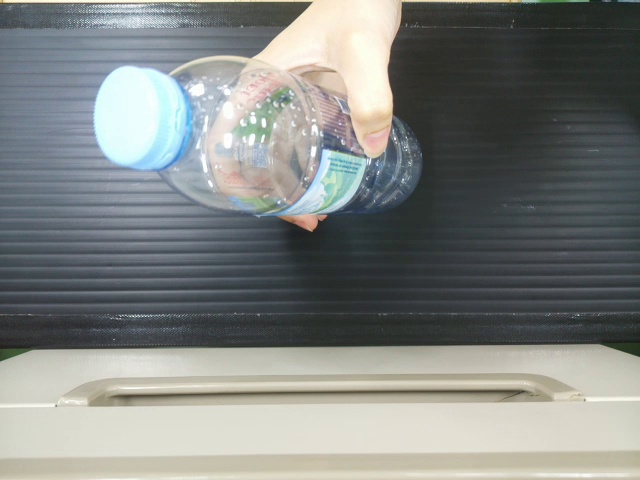bottle: (92, 46, 426, 218)
